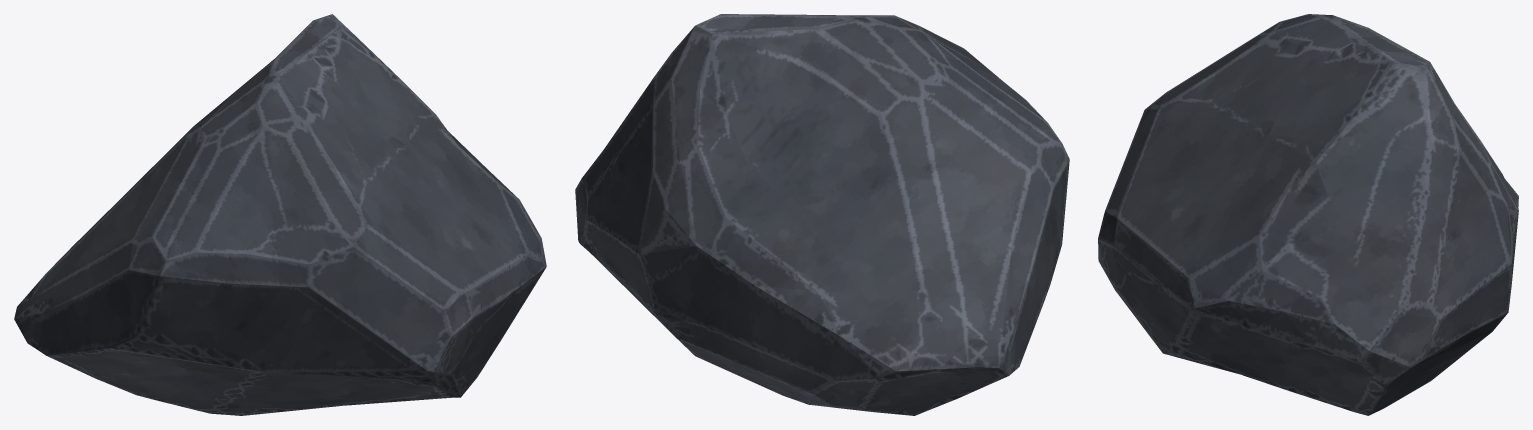
Rendered from rock_4.fbx.
The picture shows the model from 3 angles, left to right: view 1: azimuth 30°, elevation 25°; view 2: azimuth 150°, elevation 25°; view 3: azimuth 270°, elevation 25°; orthographic projection. The views are drawn at different scales.
Visible parts, largest first — view 1: rock 4 low; view 2: rock 4 low; view 3: rock 4 low.
Boxes of the visible parts, x1,y1,x2,y2 form: rock 4 low: (14,14,546,415); rock 4 low: (575,14,1069,415); rock 4 low: (1098,14,1518,415).
Bounding box in the file's own units: 93.76 × 68.72 × 76.13.
1 material, 1 textured.
